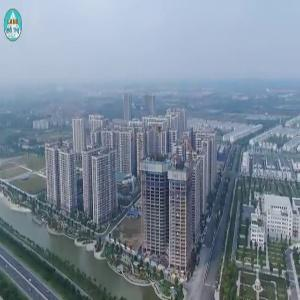drone: (128, 94, 194, 160)
